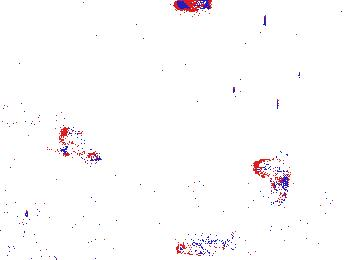red belly glassfish: (175, 238, 227, 256)
redtail glassfish: (56, 123, 105, 166), (250, 155, 293, 200)
